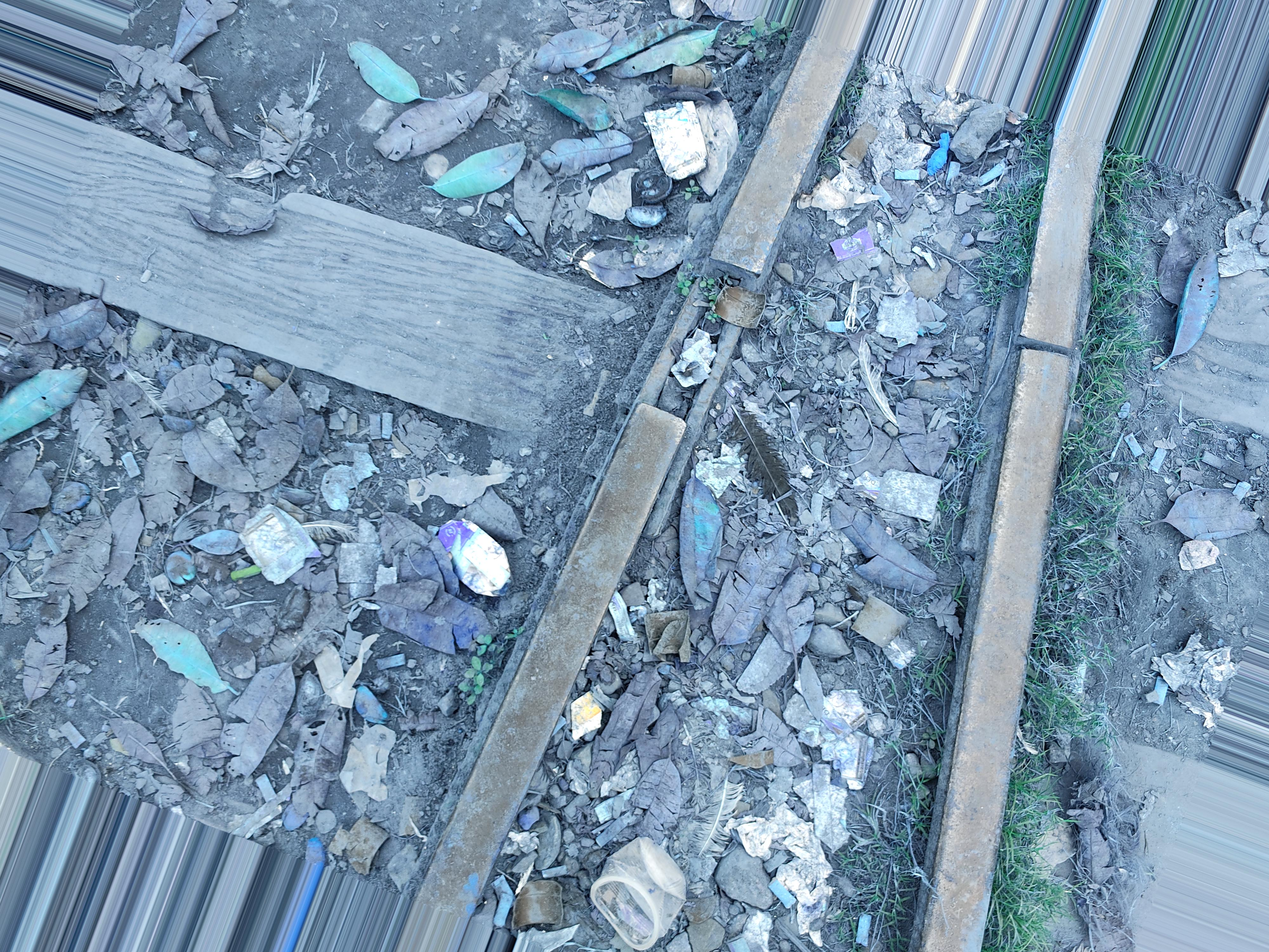tracks_fault: (603, 181, 782, 477), (996, 276, 1093, 424)
